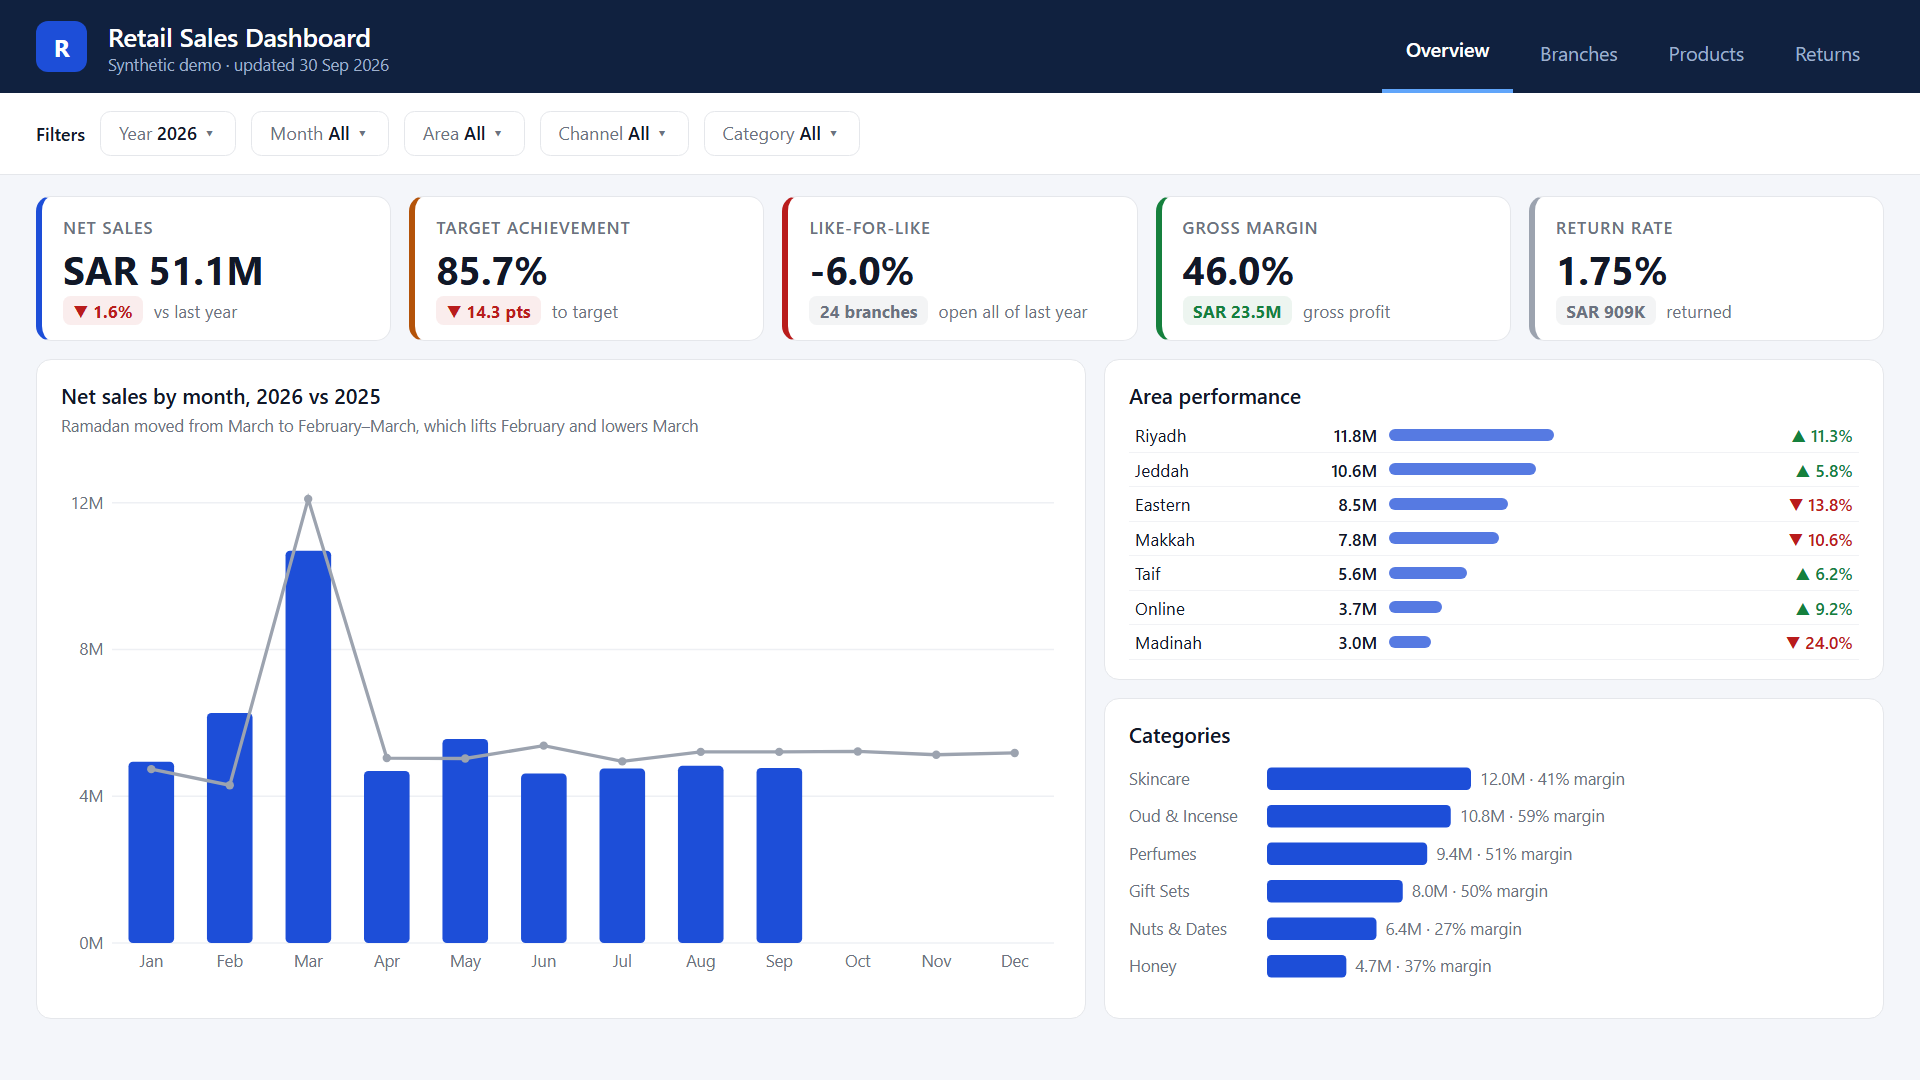

This screenshot's page, from the dashboard's own definition file:
{"tool":"powerbi","page":{"name":"Overview","canvas":[1280,720],"ordinal":0},"visuals":[{"type":"shape","box":[0,0,1280,62],"z":0},{"type":"shape","box":[24,14,34,34],"z":1},{"type":"textbox","box":[24,13,34,36],"z":2},{"type":"textbox","box":[68,8,420,50],"z":3},{"type":"pageNavigator","box":[956,12,300,40],"z":4},{"type":"shape","box":[0,62,1280,58],"z":5},{"type":"shape","box":[0,119,1280,1],"z":6},{"type":"textbox","box":[18,76,70,30],"z":7},{"type":"slicer","fields":{"Values":["Date.Year"]},"box":[92,68,150,48],"z":10},{"type":"slicer","fields":{"Values":["Date.Month"]},"box":[254,68,150,48],"z":11},{"type":"slicer","fields":{"Values":["Branch.area"]},"box":[416,68,150,48],"z":12},{"type":"slicer","fields":{"Values":["Branch.channel"]},"box":[578,68,150,48],"z":13},{"type":"slicer","fields":{"Values":["Product.category"]},"box":[740,68,150,48],"z":14},{"type":"shape","box":[24,130,236.8,120],"z":100},{"type":"cardVisual","fields":{"Data":["_Measures.Net Sales"]},"box":[32,132,224.8,116],"z":101},{"type":"shape","box":[24,138,4,104],"z":102},{"type":"shape","box":[272.8,130,236.8,120],"z":103},{"type":"cardVisual","fields":{"Data":["_Measures.Target Achievement %"]},"box":[280.8,132,224.8,116],"z":104},{"type":"shape","box":[272.8,138,4,104],"z":105},{"type":"shape","box":[521.6,130,236.8,120],"z":106},{"type":"cardVisual","fields":{"Data":["_Measures.LFL %"]},"box":[529.6,132,224.8,116],"z":107},{"type":"shape","box":[521.6,138,4,104],"z":108},{"type":"shape","box":[770.4,130,236.8,120],"z":109},{"type":"cardVisual","fields":{"Data":["_Measures.Gross Margin %"]},"box":[778.4,132,224.8,116],"z":110},{"type":"shape","box":[770.4,138,4,104],"z":111},{"type":"shape","box":[1019.2,130,236.8,120],"z":112},{"type":"cardVisual","fields":{"Data":["_Measures.Return Rate %"]},"box":[1027.2,132,224.8,116],"z":113},{"type":"shape","box":[1019.2,138,4,104],"z":114},{"type":"lineClusteredColumnComboChart","fields":{"Category":["Date.Month"],"Y":["_Measures.Net Sales"],"Y2":["_Measures.Net Sales LY"]},"box":[24,262,700,442],"z":300},{"type":"tableEx","title":"Area performance","fields":{"Values":["Branch.area","_Measures.Net Sales","_Measures.vs LY Label"]},"box":[736,262,520,229],"z":301},{"type":"tableEx","title":"Categories","fields":{"Values":["Product.category","_Measures.Net Sales","_Measures.Gross Margin %"]},"box":[736,503,520,201],"z":302}]}

Visuals, with their boxes in screenshot pixels (x1, y1, x2, y2), scaled from the page's 1280x720 canvas onto the 1920x1080 screenshot:
shape: x1=0, y1=0, x2=1919, y2=93
shape: x1=36, y1=21, x2=87, y2=72
textbox: x1=36, y1=20, x2=87, y2=74
textbox: x1=102, y1=12, x2=732, y2=87
pageNavigator: x1=1434, y1=18, x2=1884, y2=78
shape: x1=0, y1=93, x2=1919, y2=180
shape: x1=0, y1=178, x2=1919, y2=180
textbox: x1=27, y1=114, x2=132, y2=159
slicer - Date.Year: x1=138, y1=102, x2=363, y2=174
slicer - Date.Month: x1=381, y1=102, x2=606, y2=174
slicer - Branch.area: x1=624, y1=102, x2=849, y2=174
slicer - Branch.channel: x1=867, y1=102, x2=1092, y2=174
slicer - Product.category: x1=1110, y1=102, x2=1335, y2=174
shape: x1=36, y1=195, x2=391, y2=375
cardVisual - _Measures.Net Sales: x1=48, y1=198, x2=385, y2=372
shape: x1=36, y1=207, x2=42, y2=363
shape: x1=409, y1=195, x2=764, y2=375
cardVisual - _Measures.Target Achievement %: x1=421, y1=198, x2=758, y2=372
shape: x1=409, y1=207, x2=415, y2=363
shape: x1=782, y1=195, x2=1138, y2=375
cardVisual - _Measures.LFL %: x1=794, y1=198, x2=1132, y2=372
shape: x1=782, y1=207, x2=788, y2=363
shape: x1=1156, y1=195, x2=1511, y2=375
cardVisual - _Measures.Gross Margin %: x1=1168, y1=198, x2=1505, y2=372
shape: x1=1156, y1=207, x2=1162, y2=363
shape: x1=1529, y1=195, x2=1884, y2=375
cardVisual - _Measures.Return Rate %: x1=1541, y1=198, x2=1878, y2=372
shape: x1=1529, y1=207, x2=1535, y2=363
lineClusteredColumnComboChart - Date.Month x _Measures.Net Sales: x1=36, y1=393, x2=1086, y2=1056
"Area performance" tableEx: x1=1104, y1=393, x2=1884, y2=736
"Categories" tableEx: x1=1104, y1=754, x2=1884, y2=1056
